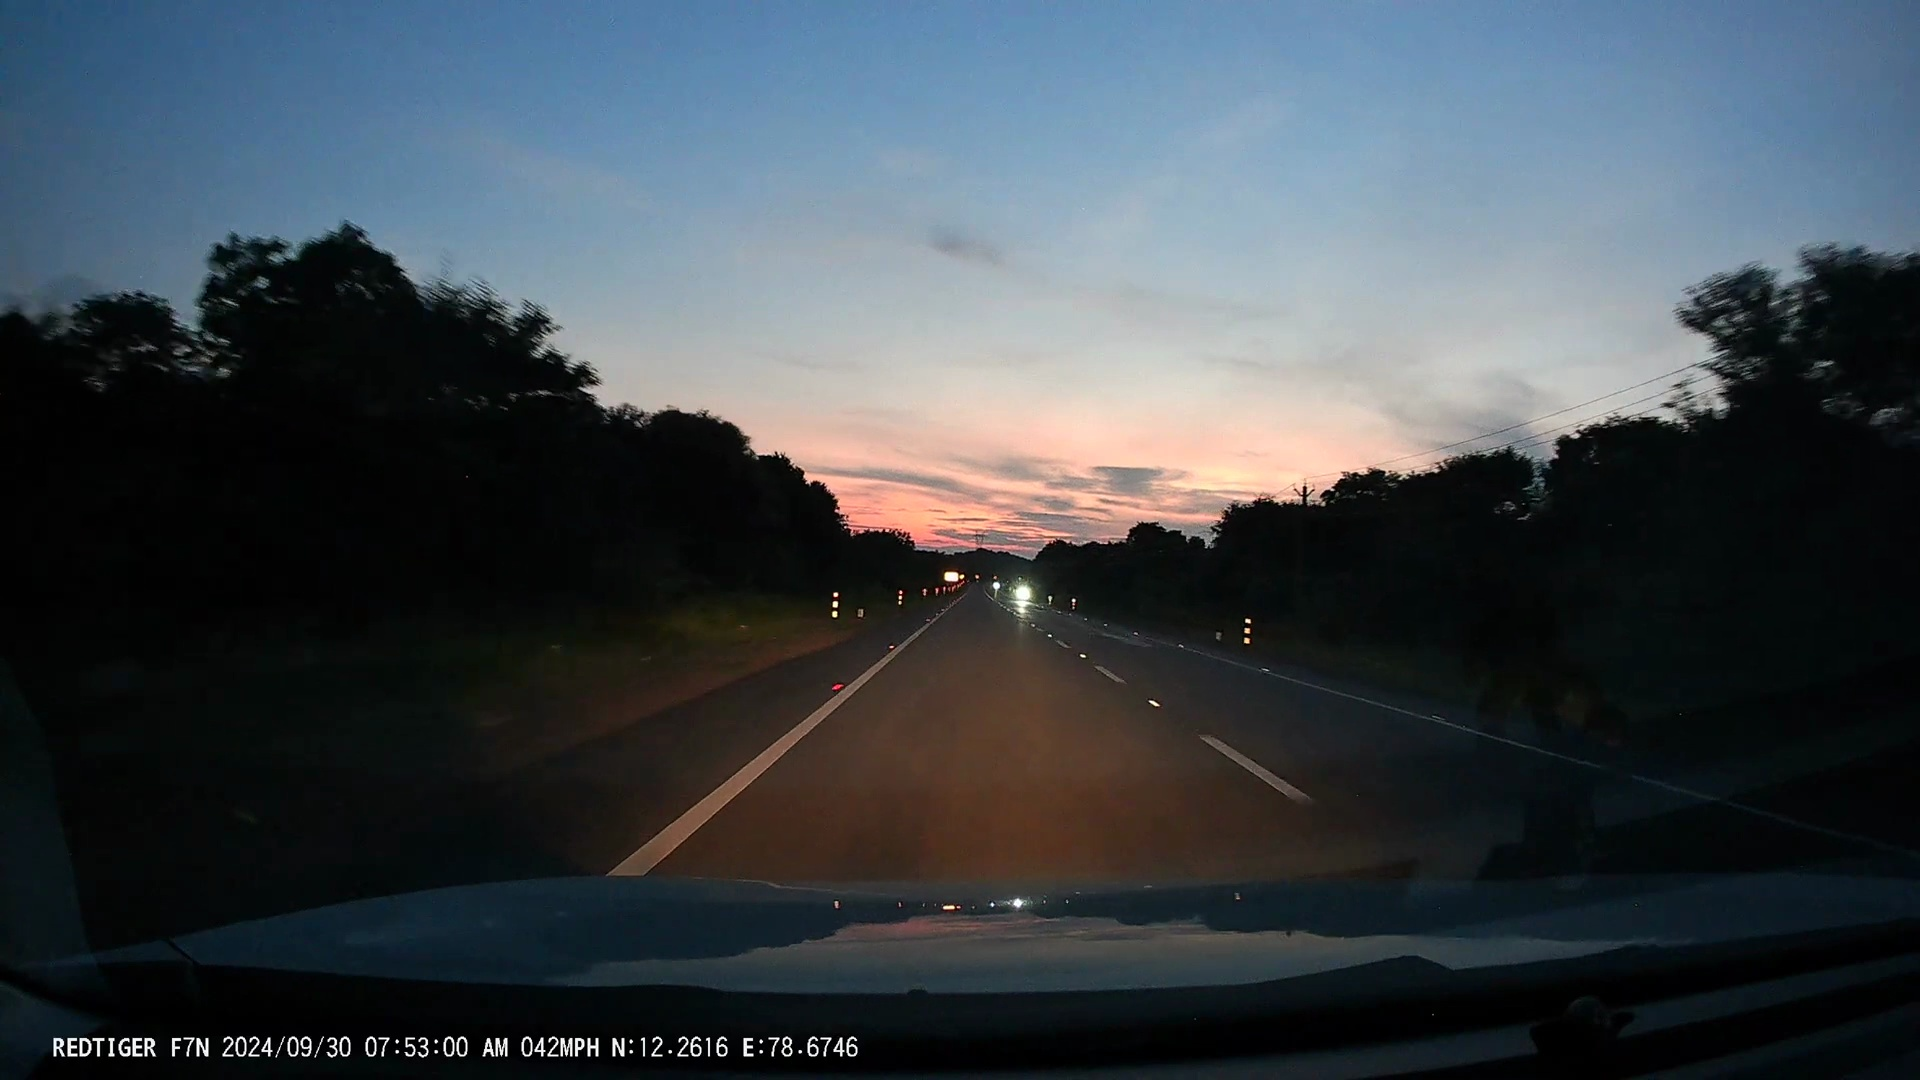headlight: (1015, 584, 1033, 603), (988, 582, 1004, 589)
two wheeler: (1011, 571, 1036, 617), (992, 578, 1001, 597)
